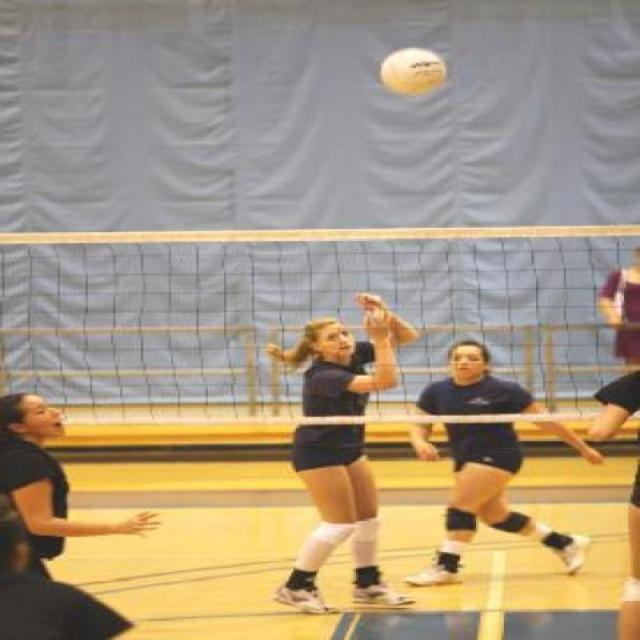volleyball: (376, 44, 448, 94)
